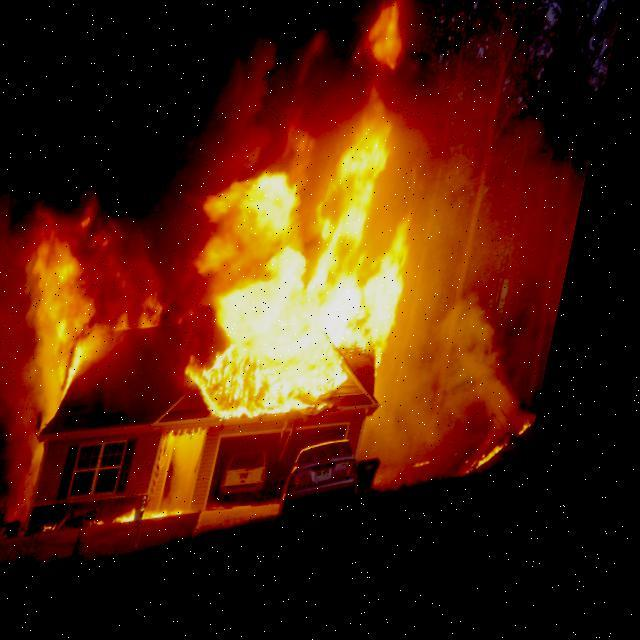Fire: (0, 116, 455, 452)
